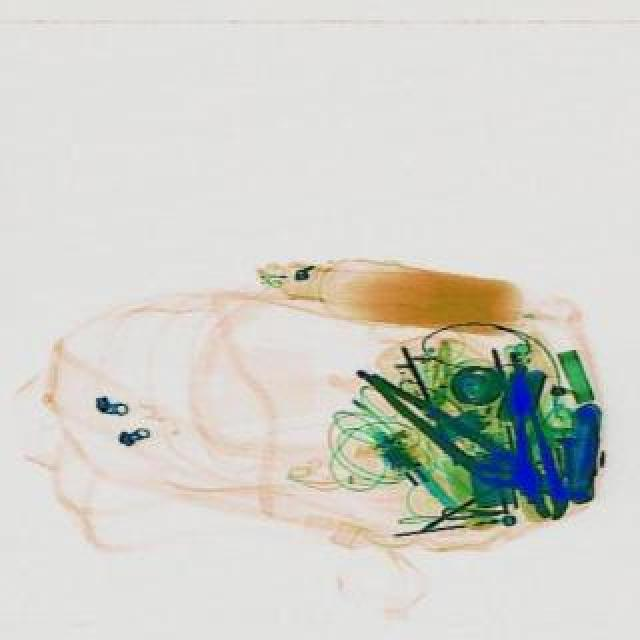wrench: (342, 350, 552, 512)
